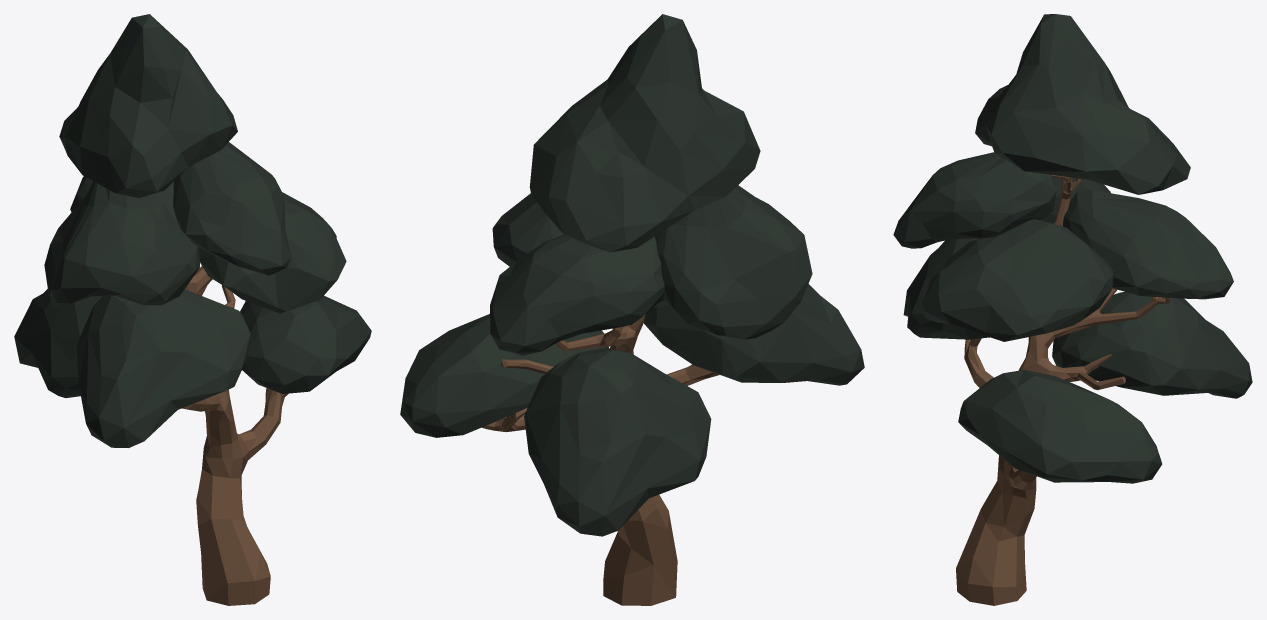
Rendered from Tall_Green_Tree.fbx.
3 renders of one model, left to right at view 1: azimuth 30°, elevation 25°; view 2: azimuth 150°, elevation 25°; view 3: azimuth 270°, elevation 25°, orthographic. The views are drawn at different scales.
Parts seen in each view (by area): view 1: Tall Green Tree; view 2: Tall Green Tree; view 3: Tall Green Tree.
Part boxes in pixels (x1,y1,x2,y2): Tall Green Tree: (14,14,371,605); Tall Green Tree: (400,14,864,605); Tall Green Tree: (893,14,1252,605).
Size of the model in its own units: 322 by 518 by 306.
